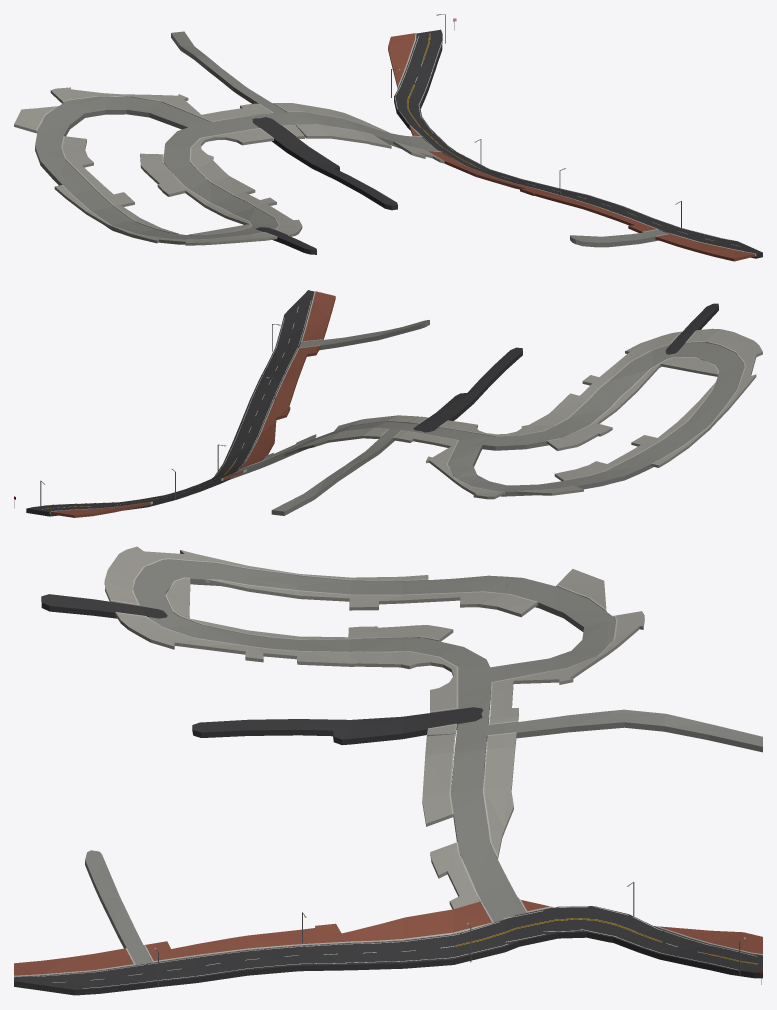
The picture shows the model from 3 angles, top to bottom: view 1: azimuth 30°, elevation 25°; view 2: azimuth 150°, elevation 25°; view 3: azimuth 270°, elevation 25°; orthographic projection. The views are drawn at different scales.
Bounding box in the file's own units: 147 × 35.08 × 146.
